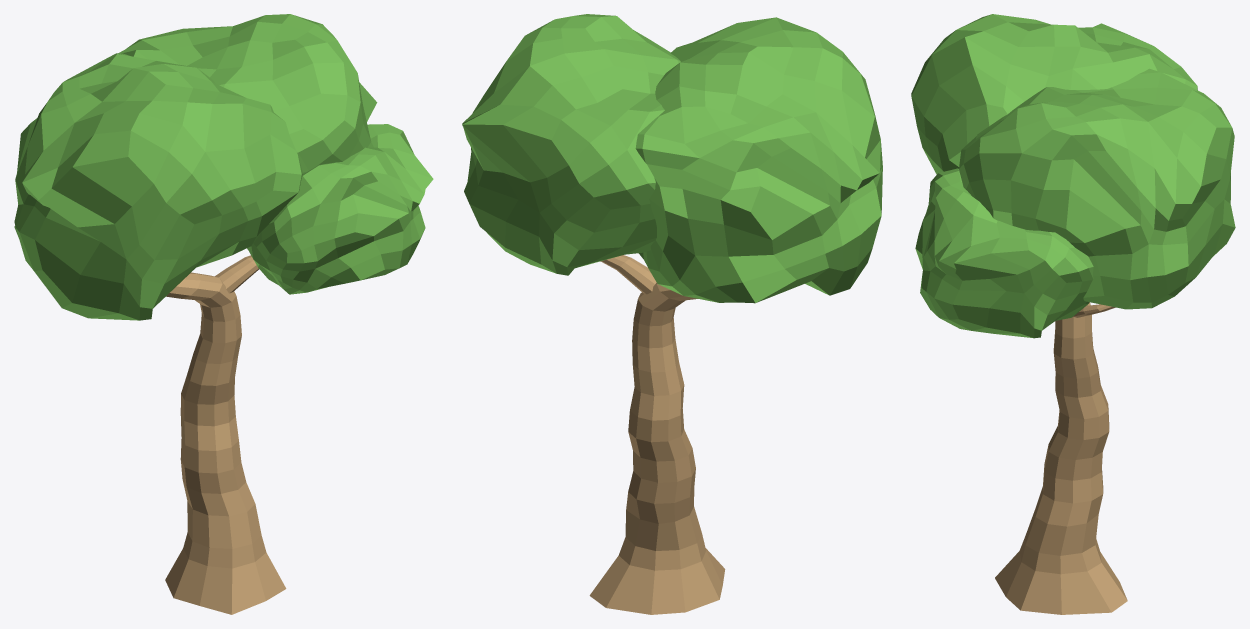
The model's file is O_Enviroment_TreeHouseTree.fbx.
The picture shows the model from 3 angles, left to right: view 1: azimuth 30°, elevation 25°; view 2: azimuth 150°, elevation 25°; view 3: azimuth 270°, elevation 25°; orthographic projection. The views are drawn at different scales.
Parts seen in each view (by area): view 1: pPlatonic9; view 2: pPlatonic9; view 3: pPlatonic9.
Boxes of the visible parts, x1,y1,x2,y2 form: pPlatonic9: (14,14,433,614); pPlatonic9: (462,14,882,614); pPlatonic9: (911,14,1235,614).
Size of the model in its own units: 9.83 by 13.4 by 7.46.
